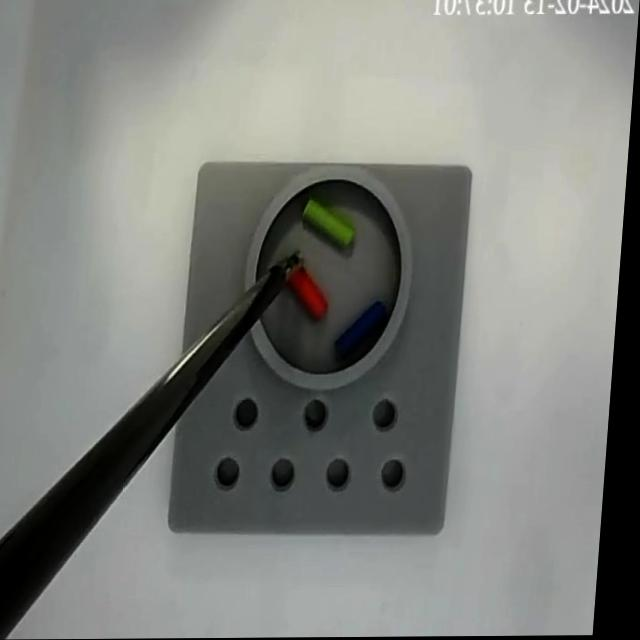EmptyHole: (377, 394, 407, 433), (238, 394, 266, 433), (386, 456, 415, 491), (308, 397, 335, 434), (277, 456, 305, 490), (332, 455, 359, 490), (222, 455, 249, 490)
